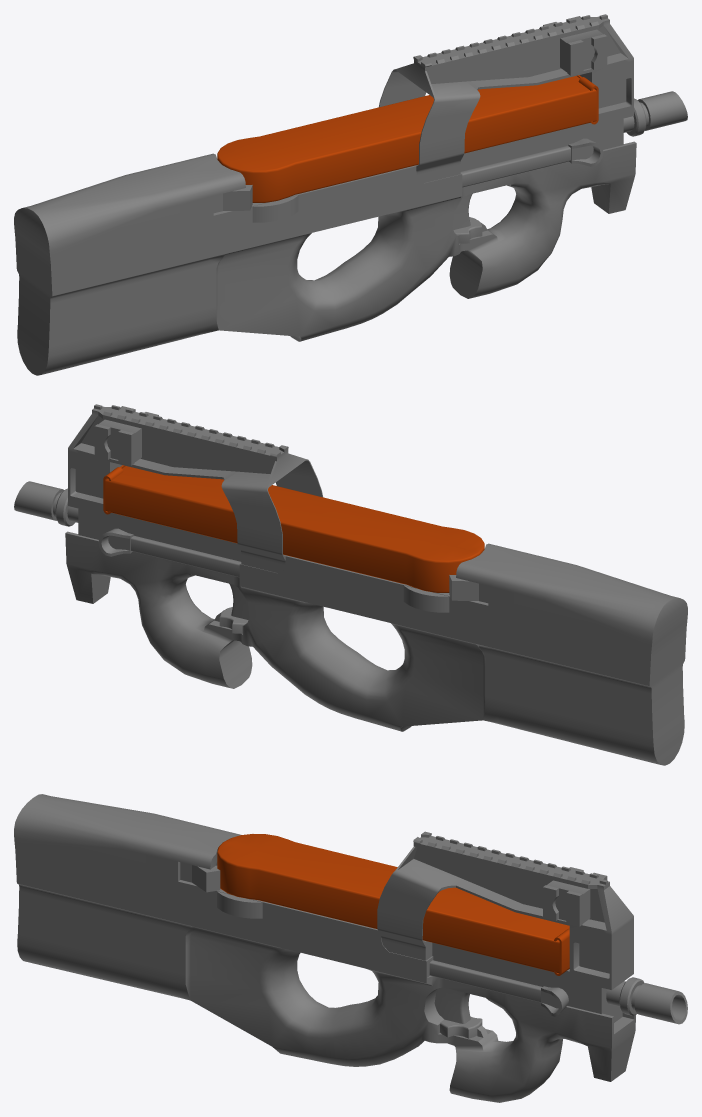
3 renders of one model, top to bottom at view 1: azimuth 30°, elevation 25°; view 2: azimuth 150°, elevation 25°; view 3: azimuth 330°, elevation 25°, orthographic.
Visible parts, largest first — view 1: Gun002, Mag001; view 2: Gun002, Mag001; view 3: Gun002, Mag001.
Boxes of the visible parts, left/top/right/bottom form: Gun002: left=14, top=14, right=687, bottom=375; Mag001: left=217, top=75, right=598, bottom=202; Gun002: left=14, top=404, right=687, bottom=765; Mag001: left=103, top=465, right=484, bottom=592; Gun002: left=14, top=794, right=687, bottom=1102; Mag001: left=217, top=834, right=569, bottom=975.
Size of the model in its own units: 0.5085 by 0.1833 by 0.06.
